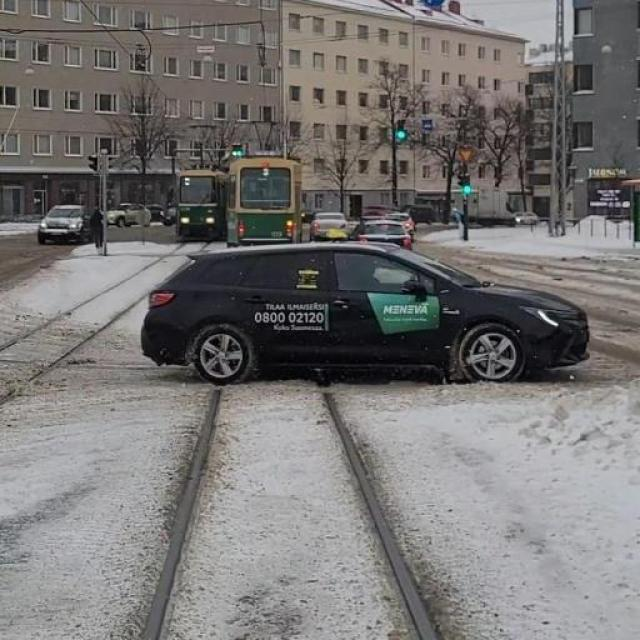vehicle: (122, 239, 589, 394), (32, 200, 104, 246), (350, 214, 424, 247), (307, 206, 356, 234)
